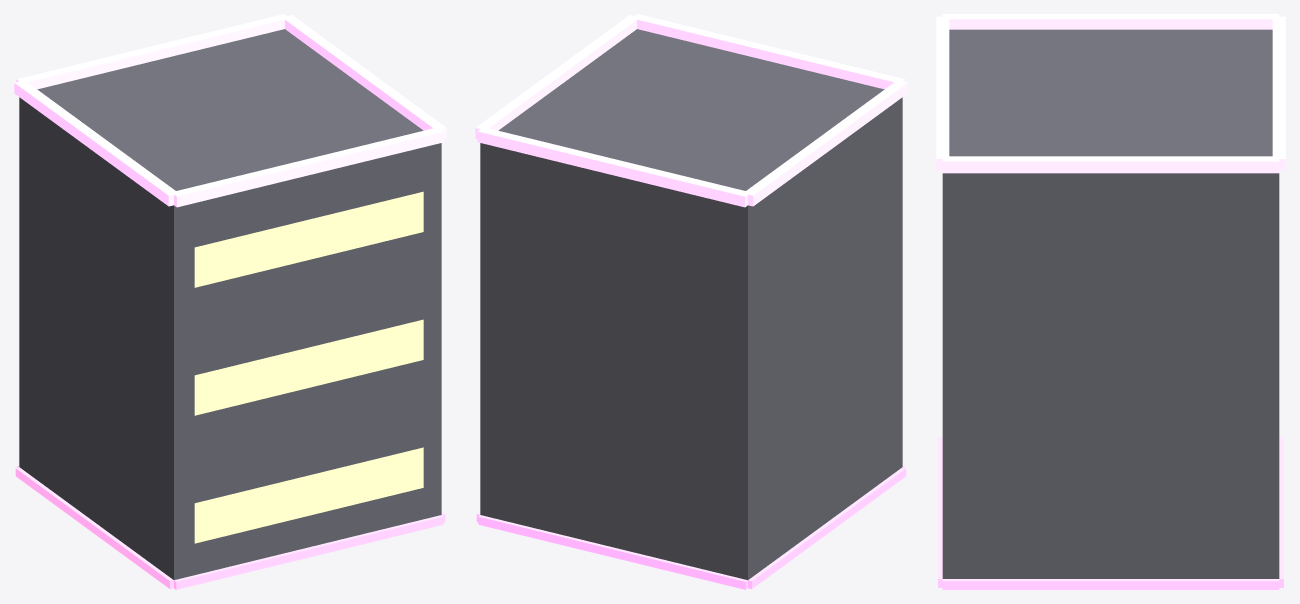
File: crown_setback.glb
3 renders of one model, left to right at view 1: azimuth 30°, elevation 25°; view 2: azimuth 150°, elevation 25°; view 3: azimuth 270°, elevation 25°, orthographic. The views are drawn at different scales.
Visible parts, largest first — view 1: crown_setback; view 2: crown_setback; view 3: crown_setback.
Part boxes in pixels (box(x1,y1,x2,y2)): crown_setback: box(14, 14, 446, 589); crown_setback: box(475, 14, 907, 589); crown_setback: box(936, 14, 1285, 589).
Size of the model in its own units: 4.32 by 5.85 by 4.32.
